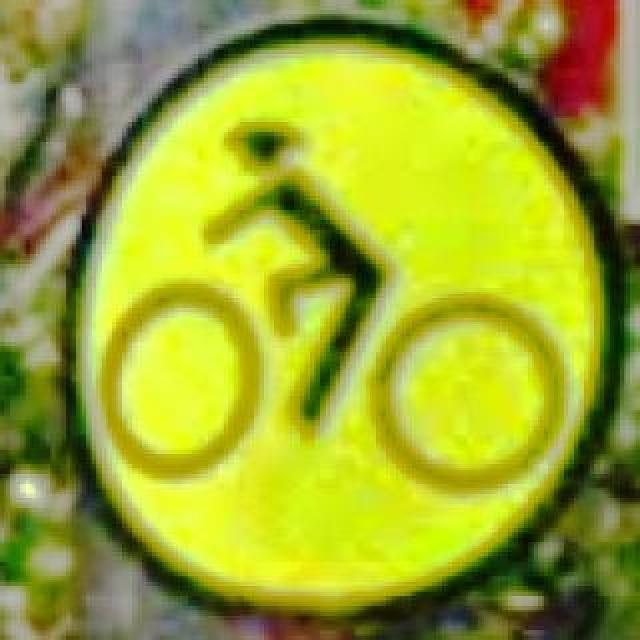bike lane: (66, 14, 604, 606)
